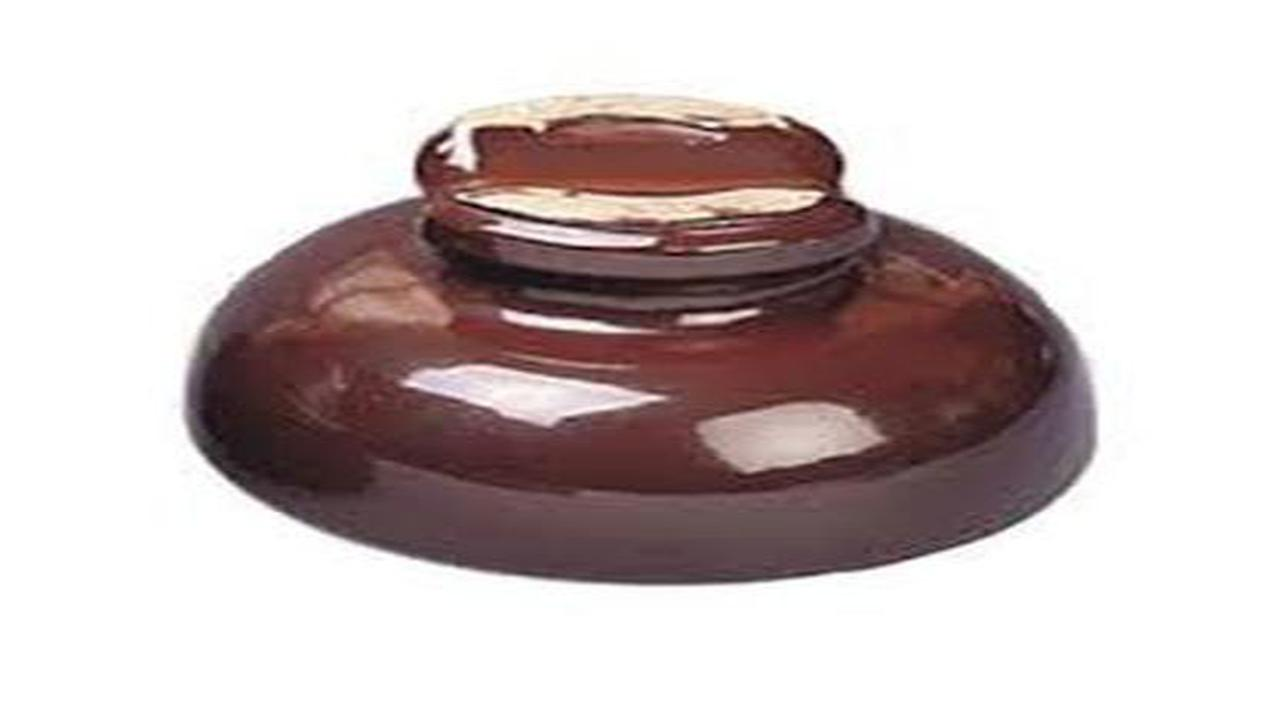insulator_pin: (185, 68, 1117, 592)
